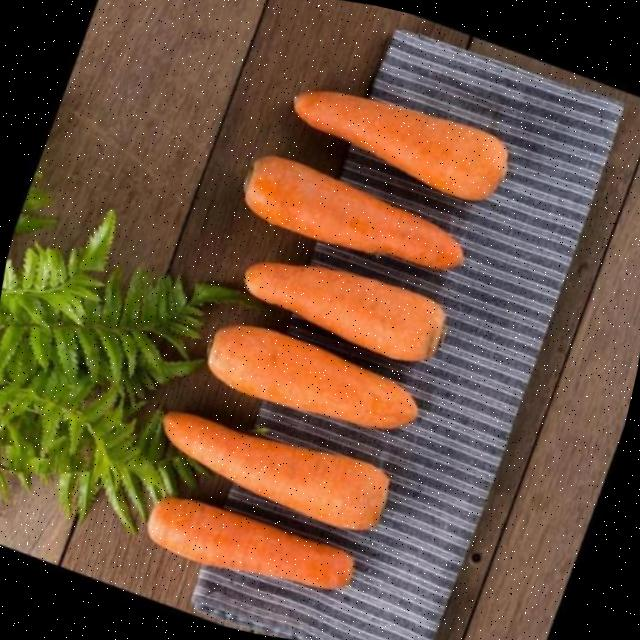carrot: (163, 411, 389, 529), (244, 154, 463, 269), (294, 90, 508, 198), (207, 324, 417, 428), (245, 260, 445, 359), (147, 496, 354, 588)
